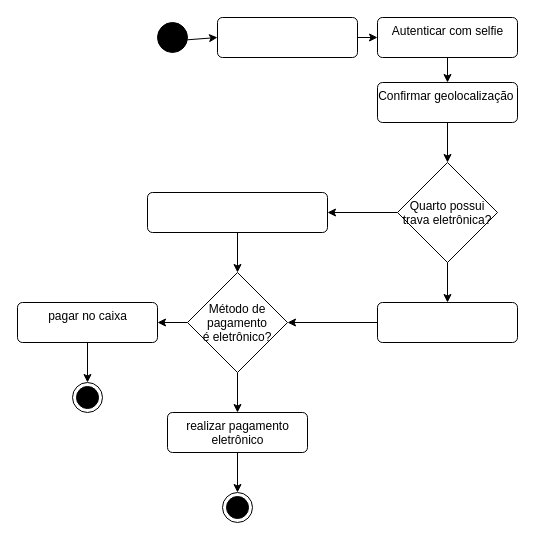
Some shapes in this 535 by 540 pixel diagram are drawn without their labels. The shapes that lost their labels are listed below. From the top down, each one's centre as x and y in pixels, then its label:
At (287,37): "Autentica".
At (237,212): "entregar chave para balconista".
At (447,322): "cancelar senha".
